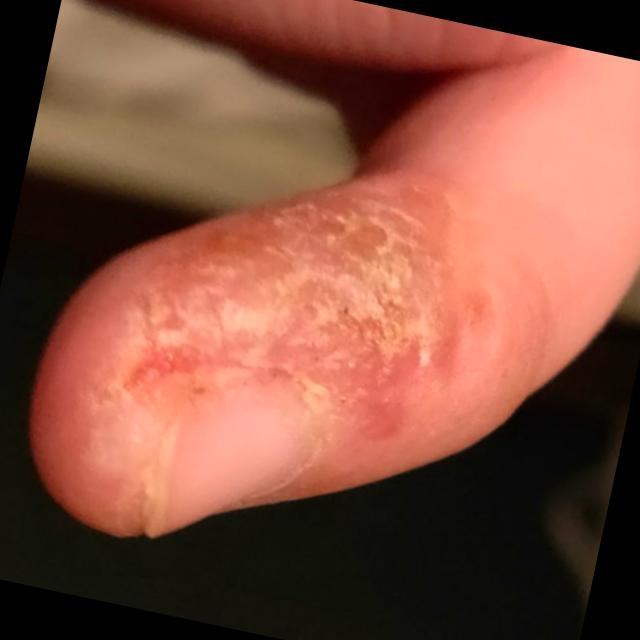Eczema: (101, 187, 457, 451)
